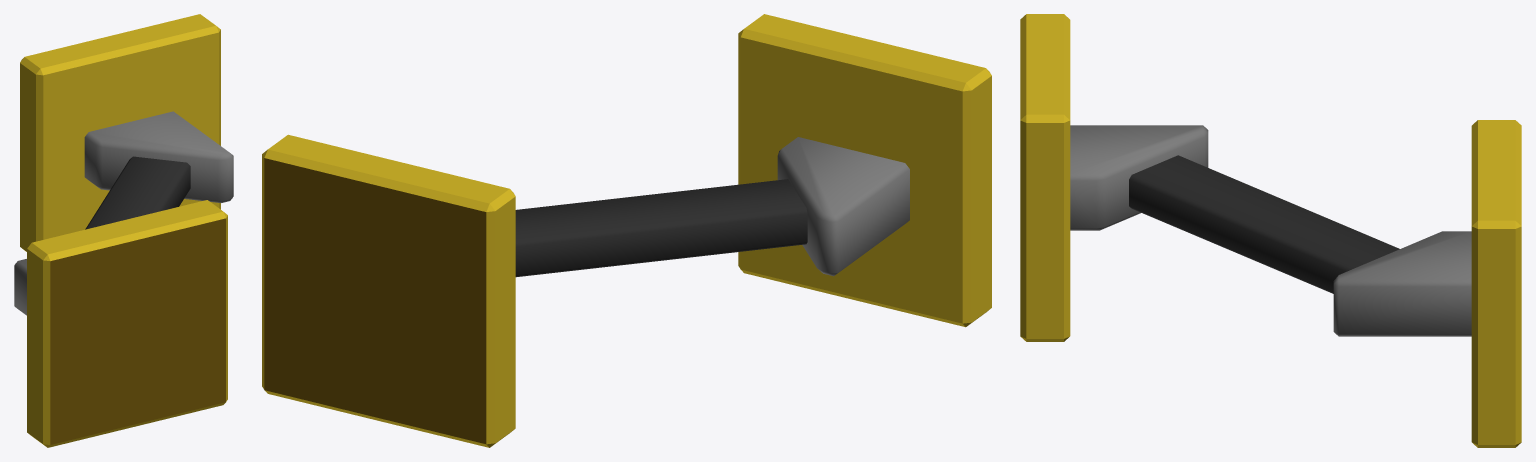
File: FrostRod#2n+.fbx
The picture shows the model from 3 angles, left to right: view 1: azimuth 30°, elevation 25°; view 2: azimuth 150°, elevation 25°; view 3: azimuth 270°, elevation 25°; orthographic projection. The views are drawn at different scales.
Parts seen in each view (by area): view 1: Cube.004; view 2: Cube.004; view 3: Cube.004.
Boxes of the visible parts, left/top/right/bottom form: Cube.004: left=14, top=14, right=233, bottom=447; Cube.004: left=262, top=14, right=991, bottom=447; Cube.004: left=1020, top=14, right=1521, bottom=447.
Bounding box in the file's own units: 4 × 2 × 4.
